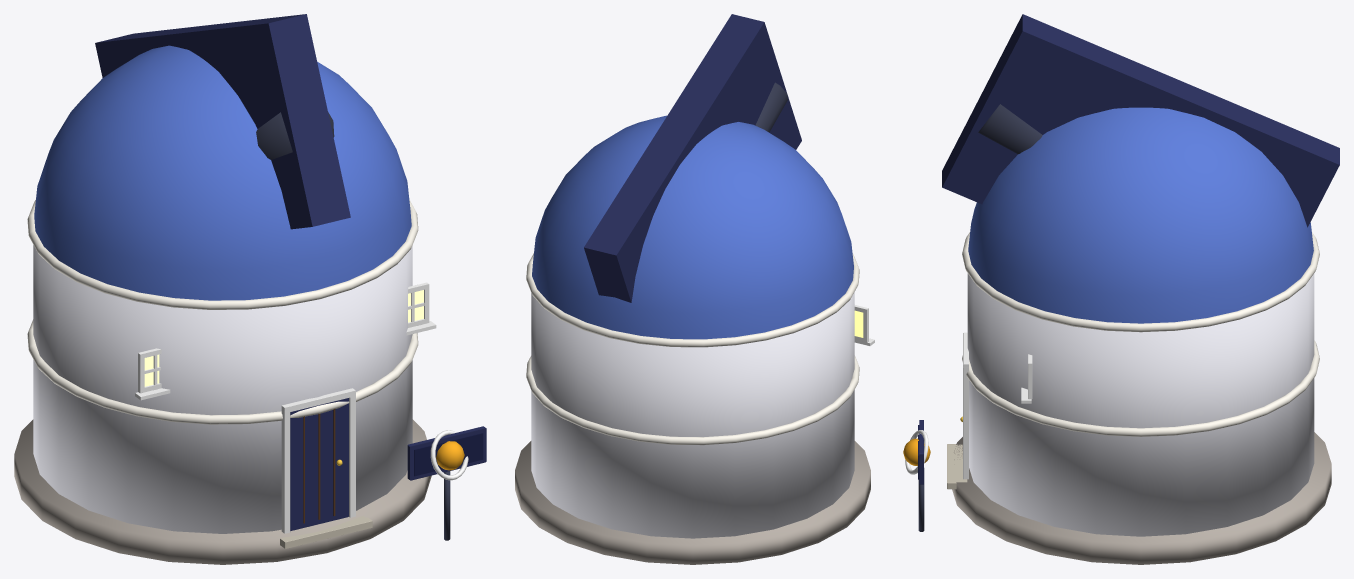
Rendered from hvezdarna.glb.
3 renders of one model, left to right at view 1: azimuth 30°, elevation 25°; view 2: azimuth 150°, elevation 25°; view 3: azimuth 270°, elevation 25°, orthographic. The views are drawn at different scales.
Parts seen in each view (by area): view 1: hvezdarna; view 2: hvezdarna; view 3: hvezdarna.
Part boxes in pixels (box(x1,y1,x2,y2)): hvezdarna: box(14, 14, 486, 564); hvezdarna: box(515, 14, 874, 564); hvezdarna: box(903, 14, 1339, 564).
Bounding box in the file's own units: 6.6 × 8.83 × 7.56.
3 materials, 3 textured.
